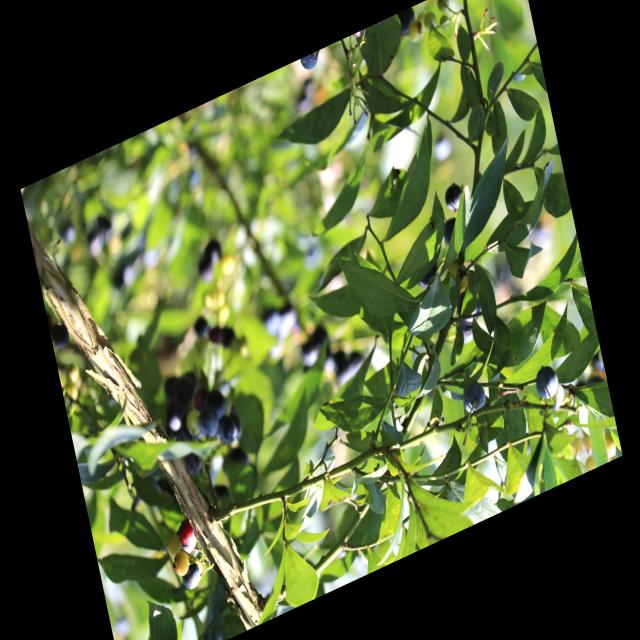blueberry: (459, 376, 492, 420), (439, 174, 471, 217), (532, 359, 562, 403), (456, 288, 485, 331), (163, 396, 192, 436), (389, 5, 421, 41), (437, 216, 465, 256), (412, 261, 442, 295), (215, 410, 242, 446), (196, 406, 221, 442), (180, 560, 203, 594), (207, 388, 229, 423), (300, 50, 322, 75)
blueberry-halfripe: (176, 516, 198, 548)
blueberry-unripe: (164, 532, 185, 562), (172, 550, 190, 580)
